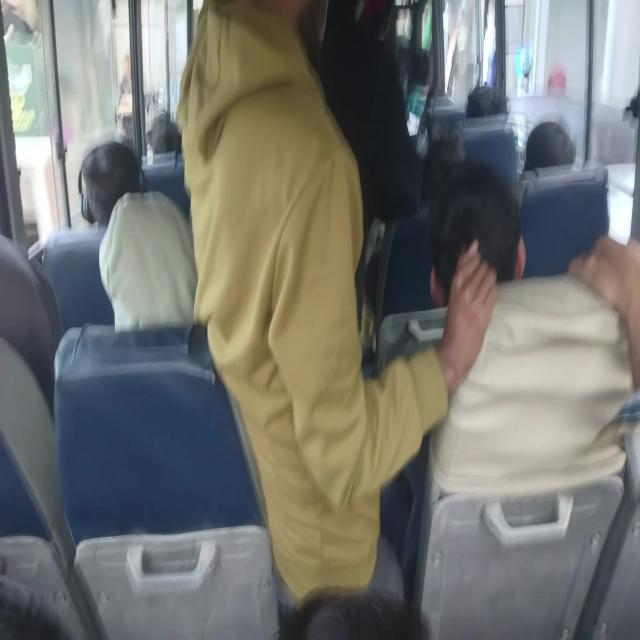person: (405, 158, 637, 624), (317, 0, 419, 319), (175, 4, 317, 172), (100, 210, 207, 398), (426, 161, 522, 303), (0, 230, 63, 426), (514, 165, 612, 280), (276, 587, 426, 639), (0, 579, 82, 640), (78, 156, 138, 224), (458, 121, 518, 188), (140, 154, 192, 216), (522, 120, 576, 174), (146, 111, 182, 157)
